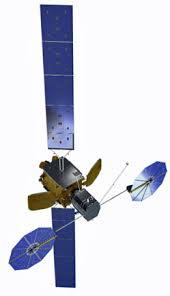antenna: (25, 189, 58, 213), (84, 157, 105, 190)
body: (36, 154, 102, 224)
solar: (38, 2, 78, 152), (49, 206, 78, 291), (7, 226, 58, 272), (128, 160, 169, 204)
